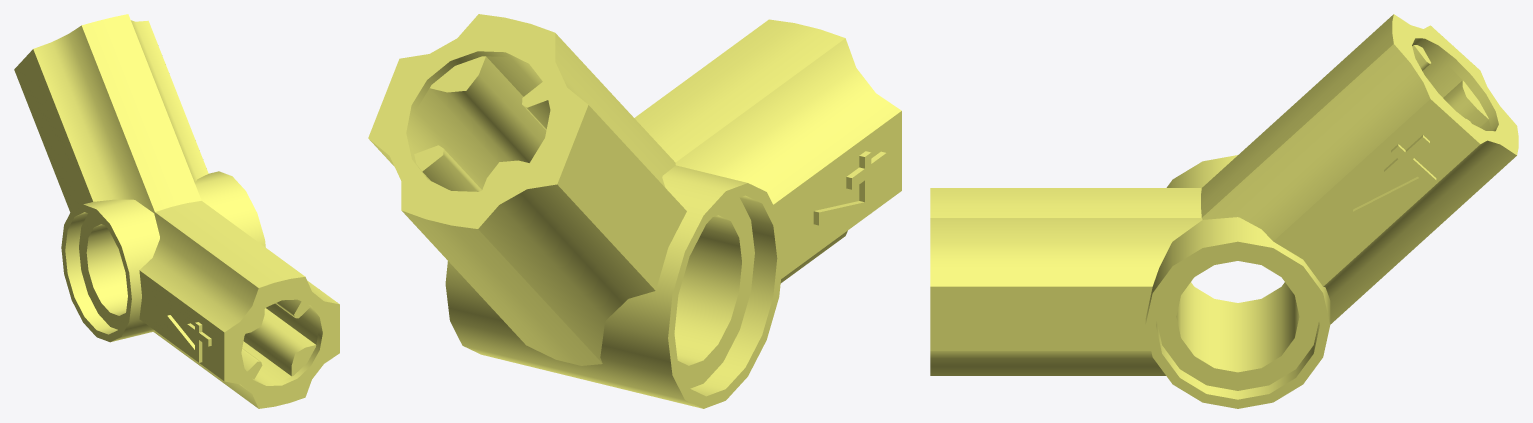
The picture shows the model from 3 angles, left to right: view 1: azimuth 30°, elevation 25°; view 2: azimuth 150°, elevation 25°; view 3: azimuth 270°, elevation 25°; orthographic projection. The views are drawn at different scales.
Visible parts, largest first — view 1: 32192.dat; view 2: 32192.dat; view 3: 32192.dat.
Boxes of the visible parts, x1,y1,x2,y2 form: 32192.dat: (14, 14, 339, 408); 32192.dat: (368, 14, 901, 408); 32192.dat: (930, 14, 1518, 408).
Size of the model in its own units: 0.008 by 0.0146 by 0.023.
